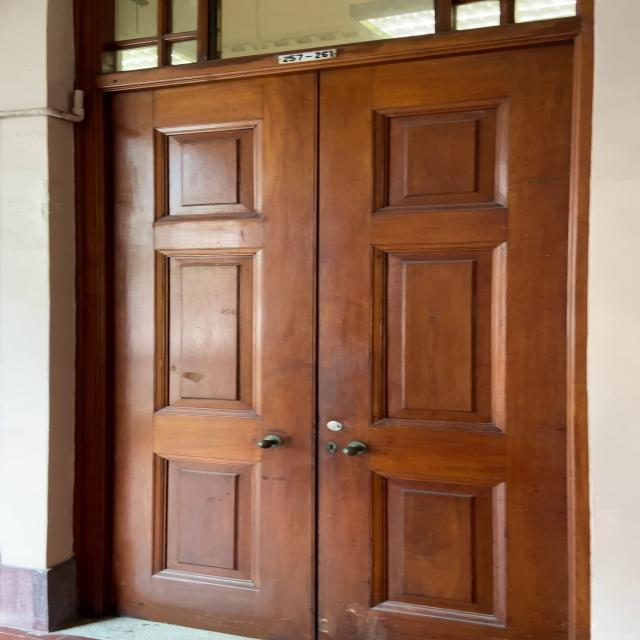room257: (260, 45, 344, 66)
room257door: (52, 12, 594, 640)
